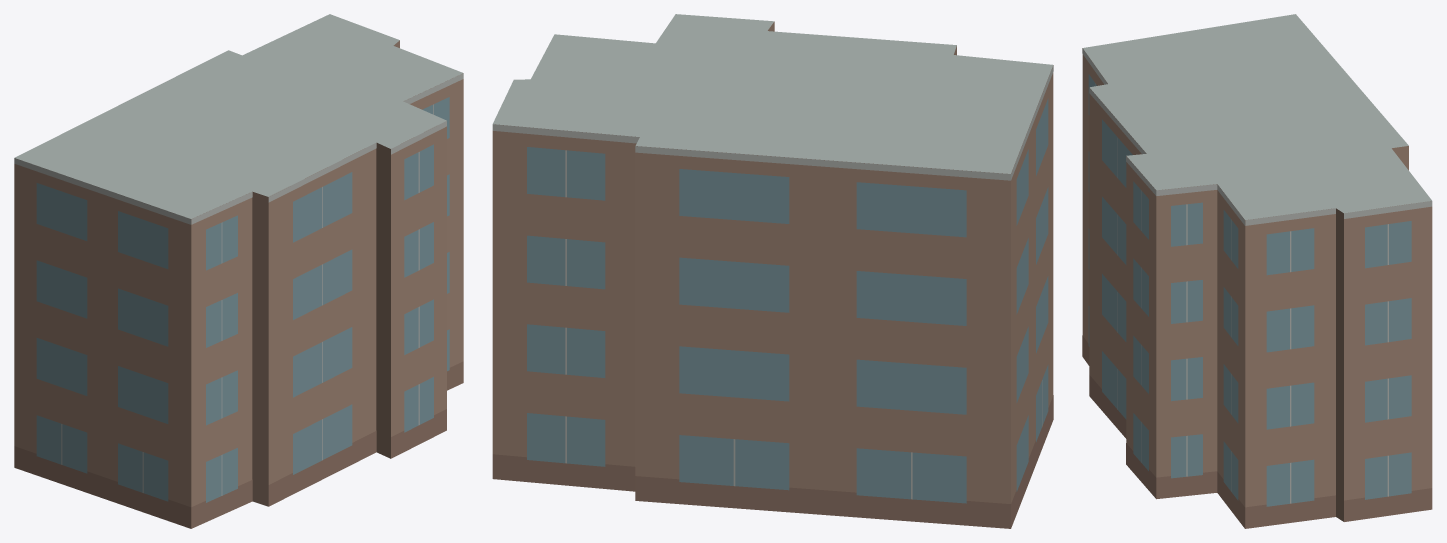
The model's file is survey-upis-32955995.glb.
3 renders of one model, left to right at view 1: azimuth 30°, elevation 25°; view 2: azimuth 150°, elevation 25°; view 3: azimuth 270°, elevation 25°, orthographic. The views are drawn at different scales.
Parts seen in each view (by area): view 1: survey-upis-32955995.tmp; view 2: survey-upis-32955995.tmp; view 3: survey-upis-32955995.tmp.
Boxes of the visible parts, x1,y1,x2,y2 form: survey-upis-32955995.tmp: (14,14,463,528); survey-upis-32955995.tmp: (492,14,1053,528); survey-upis-32955995.tmp: (1082,14,1432,528).
Size of the model in its own units: 18.63 by 13 by 13.36.
